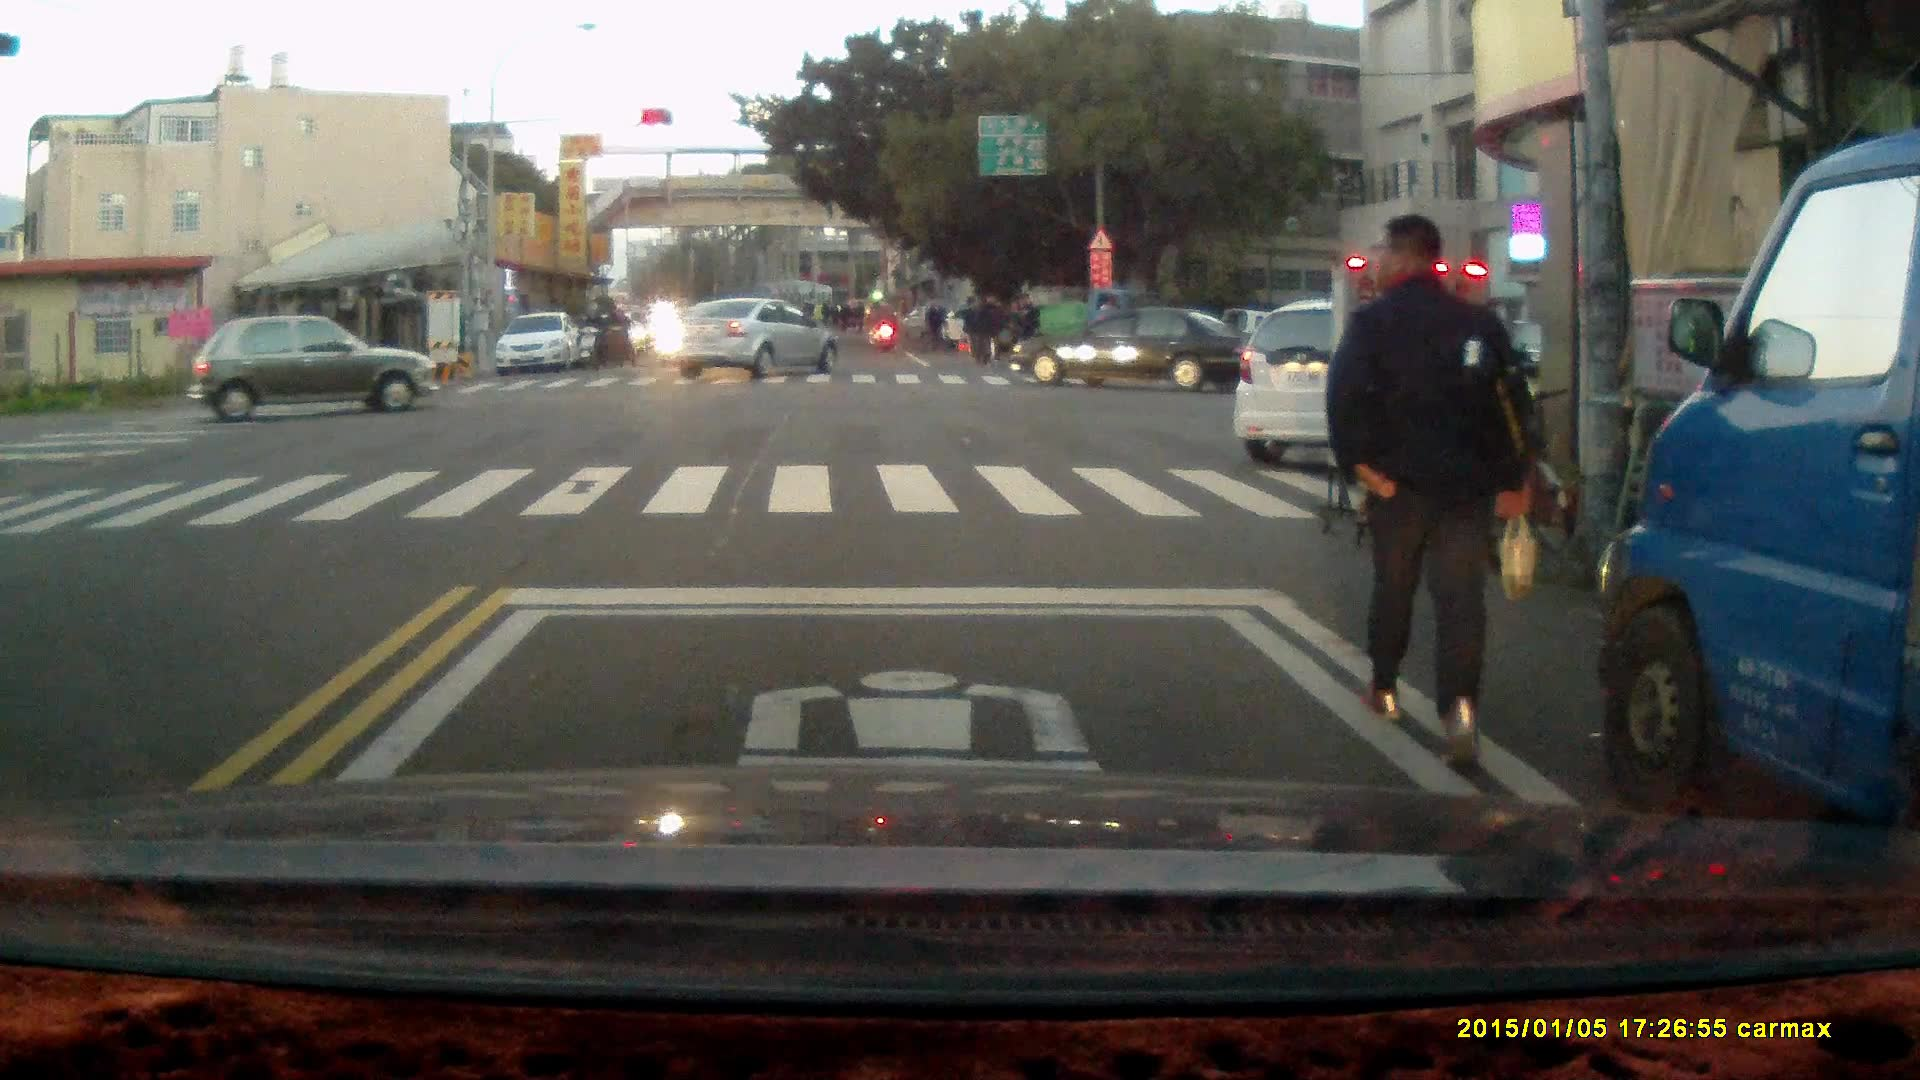pedestrian: (1318, 210, 1534, 764), (974, 291, 1005, 370), (1010, 292, 1039, 370), (926, 295, 947, 353)
rider: (576, 301, 608, 368), (603, 302, 632, 368)
vehicle: (1598, 132, 1920, 848), (1233, 296, 1533, 459), (191, 316, 440, 428), (1023, 304, 1251, 393), (646, 297, 840, 382), (1002, 284, 1178, 367), (498, 313, 586, 377)
